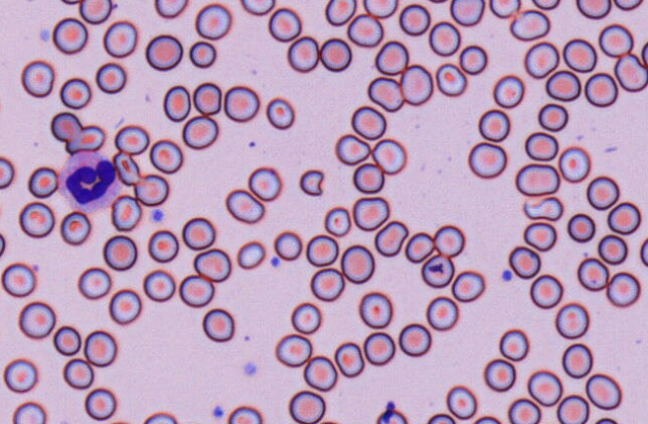GRAN: (59, 149, 122, 212)
PLT: (242, 359, 258, 378), (150, 207, 164, 221), (213, 404, 227, 418), (269, 255, 281, 270), (501, 270, 514, 281)
RBC: (515, 162, 560, 196), (467, 141, 507, 178), (145, 33, 183, 71), (194, 2, 231, 40), (399, 64, 433, 105), (18, 301, 55, 338), (585, 373, 622, 410), (225, 188, 264, 223), (509, 8, 550, 41), (18, 201, 54, 238), (523, 41, 559, 78), (52, 17, 88, 54), (223, 85, 259, 122), (102, 20, 137, 58), (340, 244, 374, 283), (367, 76, 403, 112), (527, 369, 562, 406), (371, 137, 406, 174), (352, 196, 389, 231), (554, 302, 589, 339), (83, 329, 117, 367), (193, 248, 231, 282), (274, 333, 312, 367), (20, 59, 54, 97), (614, 53, 647, 92), (350, 105, 386, 140), (606, 271, 641, 307), (182, 114, 218, 149), (102, 234, 137, 270), (346, 13, 383, 47), (358, 291, 392, 328), (558, 145, 591, 183), (3, 358, 38, 393), (1, 262, 36, 297), (562, 37, 597, 72), (303, 355, 337, 391), (374, 220, 408, 256), (309, 267, 345, 301), (374, 39, 408, 75), (584, 71, 618, 107), (288, 390, 325, 423), (108, 288, 141, 325), (286, 35, 319, 72), (420, 253, 454, 288), (149, 138, 183, 173), (529, 273, 563, 308), (247, 166, 281, 201), (598, 23, 633, 57), (178, 274, 214, 307), (181, 216, 215, 250), (134, 173, 169, 206), (425, 295, 458, 330), (586, 175, 619, 210), (319, 37, 352, 72), (268, 7, 301, 42), (561, 342, 593, 378), (428, 20, 460, 56), (545, 69, 581, 101), (110, 194, 141, 231), (77, 266, 111, 299), (483, 358, 516, 392), (398, 322, 431, 356), (607, 201, 641, 234), (477, 108, 510, 142), (445, 384, 477, 419), (202, 307, 234, 342), (142, 269, 175, 302), (508, 245, 540, 279), (577, 257, 609, 291), (451, 270, 485, 302), (363, 331, 395, 365), (492, 74, 524, 108), (114, 124, 149, 155), (60, 210, 91, 245), (334, 341, 364, 377), (305, 234, 338, 266), (84, 387, 116, 420), (147, 229, 179, 262), (435, 62, 466, 96), (162, 85, 191, 121), (59, 77, 91, 109), (398, 3, 430, 35), (433, 224, 464, 257), (498, 328, 529, 361), (290, 301, 321, 334), (95, 61, 126, 94), (524, 131, 558, 161), (50, 111, 82, 142), (62, 358, 94, 389), (352, 162, 384, 193), (27, 166, 58, 198), (523, 221, 556, 251), (265, 96, 295, 129), (192, 81, 221, 115), (404, 231, 434, 263), (597, 233, 627, 265), (556, 394, 589, 423), (449, 0, 484, 26), (537, 102, 568, 131), (507, 397, 541, 423), (273, 230, 302, 260), (458, 44, 487, 74), (53, 325, 81, 356), (236, 240, 265, 269), (567, 212, 595, 242), (323, 206, 351, 236), (324, 0, 356, 26), (79, 0, 112, 24), (189, 40, 216, 68), (12, 401, 46, 423), (575, 0, 611, 19), (362, 0, 397, 18), (227, 405, 262, 423), (154, 0, 188, 18), (489, 0, 520, 18), (240, 0, 274, 15), (376, 408, 407, 423), (0, 156, 14, 189), (143, 411, 177, 423), (613, 0, 643, 10), (426, 413, 455, 423), (531, 0, 560, 10), (640, 236, 648, 266), (473, 415, 501, 423), (641, 39, 648, 68), (594, 417, 618, 423), (0, 231, 5, 257), (317, 419, 341, 424), (60, 0, 81, 5), (427, 0, 448, 3)
Schistocyte: (64, 125, 106, 153), (524, 196, 565, 220), (114, 152, 141, 185), (298, 169, 326, 196)
